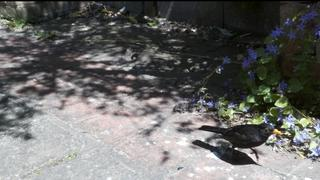blackbird: (198, 123, 282, 164)
